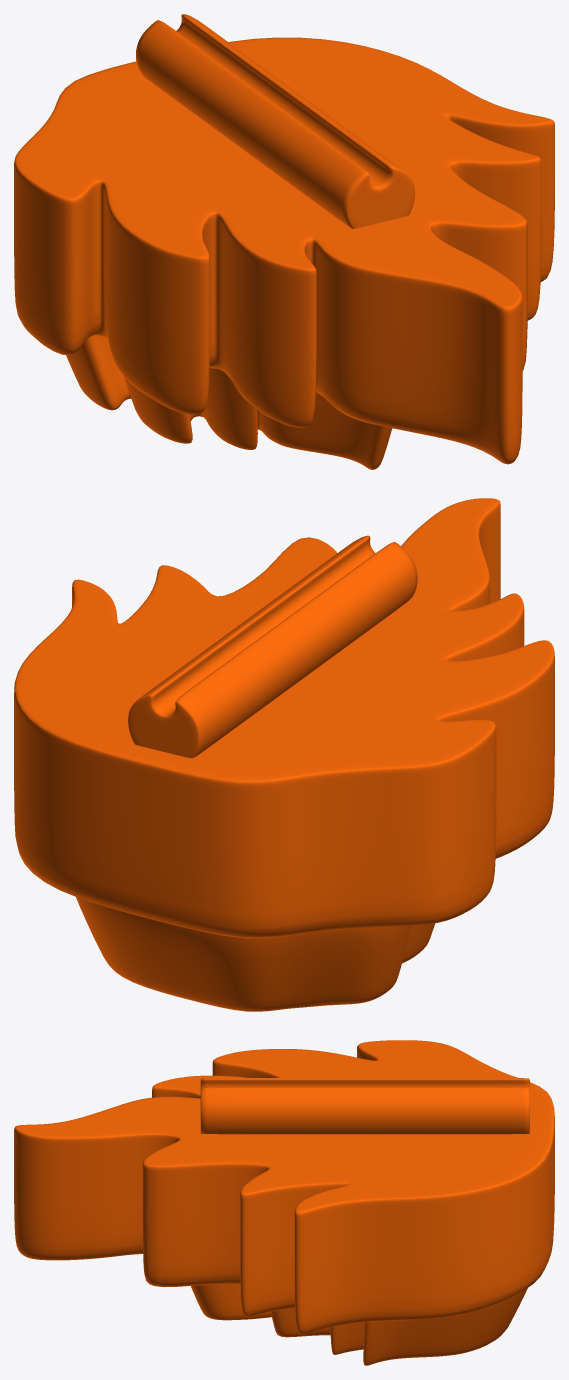
Rendered from flame.obj.
3 renders of one model, top to bottom at view 1: azimuth 30°, elevation 25°; view 2: azimuth 150°, elevation 25°; view 3: azimuth 270°, elevation 25°, orthographic. The views are drawn at different scales.
Parts seen in each view (by area): view 1: flame; view 2: flame; view 3: flame.
Part boxes in pixels (x1,y1,x2,y2): flame: (14, 14, 554, 469); flame: (14, 498, 554, 1011); flame: (14, 1040, 554, 1365).
Size of the model in its own units: 3.73 by 2.37 by 4.92.
